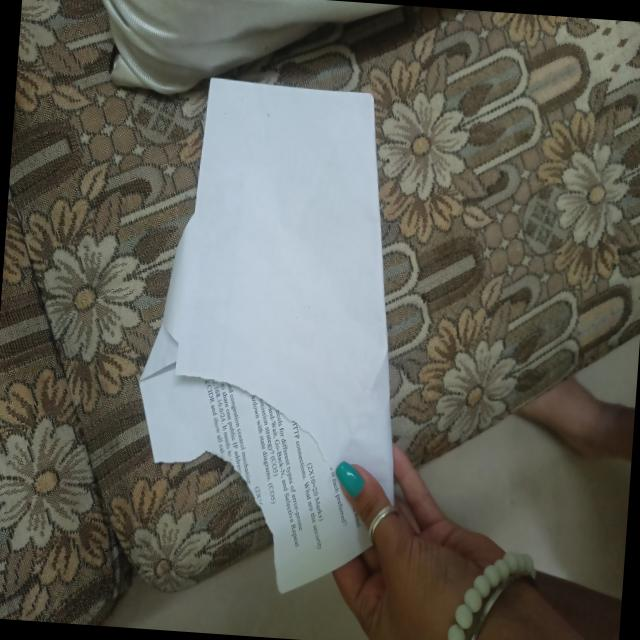notebook: (88, 61, 461, 606)
